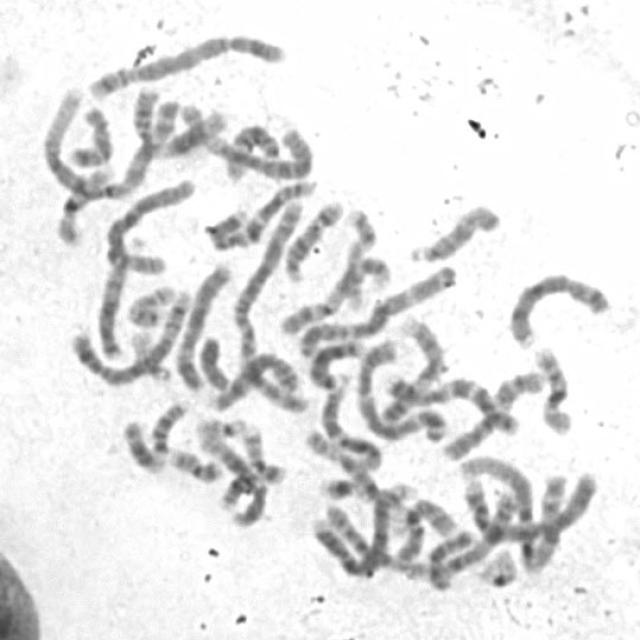A1: (34, 81, 180, 201), (461, 454, 583, 573)
A2: (305, 491, 526, 581), (226, 199, 311, 413)
A3: (290, 258, 460, 358), (352, 329, 451, 444)
B4: (458, 468, 600, 542), (309, 493, 393, 578)
B5: (83, 29, 289, 102), (66, 285, 192, 388)
C10: (440, 366, 548, 462), (388, 499, 452, 566)
C11: (127, 88, 227, 159), (119, 394, 192, 474)
C12: (194, 422, 268, 530), (316, 382, 383, 472)
C6: (185, 96, 315, 178), (101, 173, 201, 269)
C7: (202, 170, 330, 250), (380, 371, 522, 436)
C8: (505, 266, 615, 349), (206, 347, 305, 414)
C9: (274, 250, 392, 338), (378, 315, 445, 426)
D13: (92, 239, 148, 367), (304, 334, 367, 391)
D14: (280, 194, 347, 284), (222, 116, 285, 182)
D15: (403, 198, 502, 264), (306, 426, 385, 505)
E16: (52, 158, 116, 247), (529, 341, 576, 437)
E17: (338, 206, 382, 312), (124, 282, 180, 330)
E18: (423, 522, 477, 592), (66, 102, 114, 170)
F19: (471, 544, 519, 588), (384, 484, 416, 514)
F20: (236, 422, 286, 485), (164, 441, 224, 484)
G21: (314, 471, 364, 501), (216, 476, 251, 512)
G22: (124, 322, 174, 383), (192, 412, 250, 440)
X: (169, 256, 235, 393)
Y: (194, 329, 232, 392)
